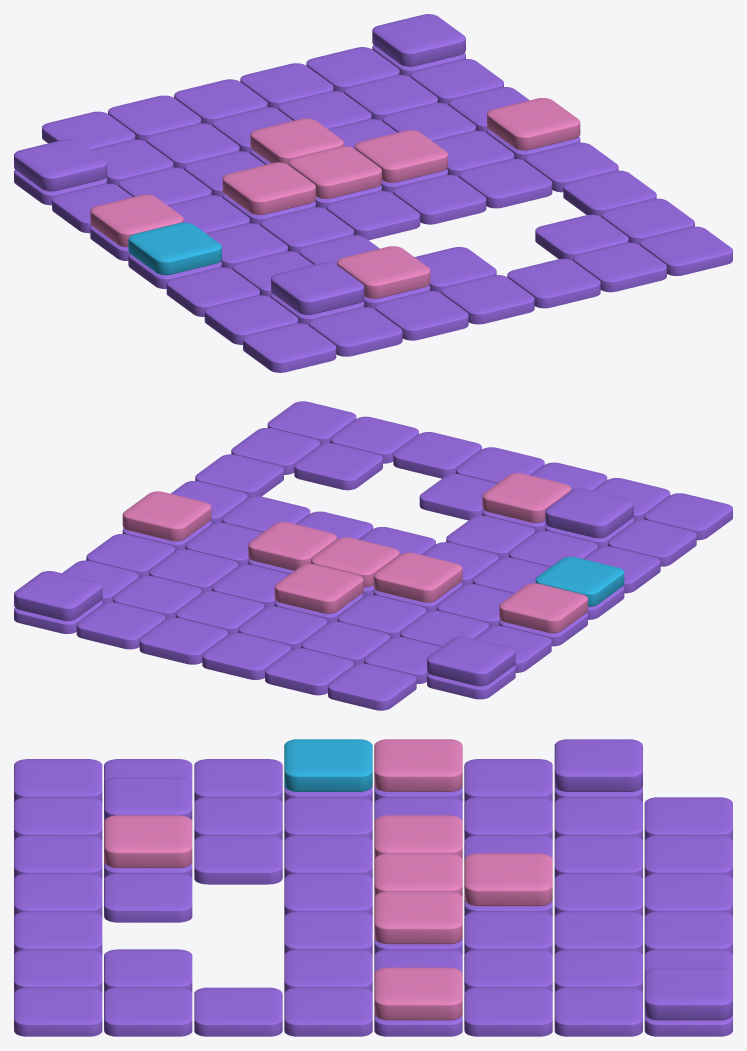
The model's file is Level6.glb.
The picture shows the model from 3 angles, top to bottom: view 1: azimuth 30°, elevation 25°; view 2: azimuth 150°, elevation 25°; view 3: azimuth 270°, elevation 25°; orthographic projection. The views are drawn at different scales.
Visible parts, largest first — view 1: block, block.001, wall.009, block.003, block.002, wall.013, platform.038, wall.007, wall.010, wall.011, platform.026, platform.046 (+45 smaller); view 2: wall.009, wall.013, wall.012, block.001, block.002, block.003, wall.008, platform.041, platform.008, wall.007, wall.011, platform.017 (+47 smaller); view 3: wall.013, block.003, wall.011, wall.012, block, wall.007, wall.008, block.002, platform.034, platform.024, platform.006, platform.018 (+47 smaller).
Boxes of the visible parts, box(x1,y1,x2,y2) form: block: box(128, 222, 221, 275); block.001: box(271, 262, 364, 314); wall.009: box(222, 162, 315, 214); block.003: box(372, 14, 465, 66); block.002: box(14, 138, 107, 191); wall.013: box(487, 98, 580, 150); platform.038: box(243, 323, 336, 372); wall.007: box(337, 246, 430, 298); wall.010: box(288, 146, 381, 198); wall.011: box(354, 130, 447, 182); platform.026: box(573, 242, 666, 292); platform.046: box(375, 291, 468, 340); wall.009: box(373, 552, 462, 602); wall.013: box(122, 491, 211, 541); wall.012: box(274, 564, 363, 613); block.001: box(545, 488, 633, 538); block.002: box(427, 636, 515, 686); block.003: box(14, 571, 102, 620); wall.008: box(499, 583, 587, 633); platform.041: box(294, 443, 382, 490); platform.008: box(328, 663, 416, 710); wall.007: box(482, 473, 571, 522); wall.011: box(248, 522, 336, 570); platform.017: box(76, 602, 165, 649); wall.013: box(374, 967, 462, 1020); block.003: box(644, 967, 732, 1020); wall.011: box(374, 891, 462, 944); wall.012: box(464, 853, 552, 906); block: box(284, 739, 372, 791); wall.007: box(104, 815, 192, 867); wall.008: box(374, 739, 462, 791); block.002: box(554, 739, 642, 791); platform.034: box(14, 987, 102, 1036); platform.024: box(104, 987, 192, 1036); platform.006: box(194, 835, 282, 884); platform.018: box(554, 987, 642, 1036).
Size of what is drawn, in the model's own units: 17.24 by 1.04 by 19.71.
